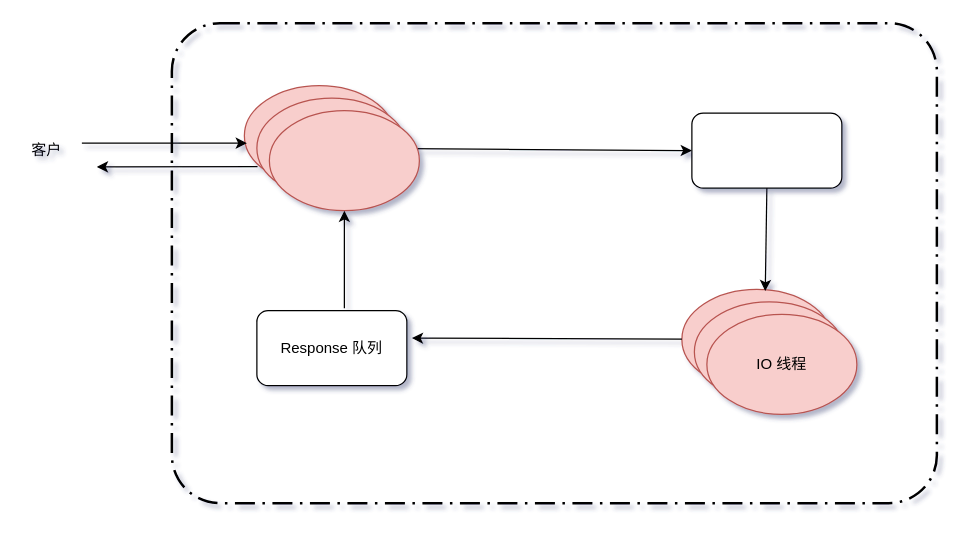
This 966x533 diagram has some shape labels left out. The box of each missing label's shape, as (x1, y1, x2, y2) in pixels:
Request 队列: (691, 112, 842, 188)
网络线程: (268, 109, 419, 211)
